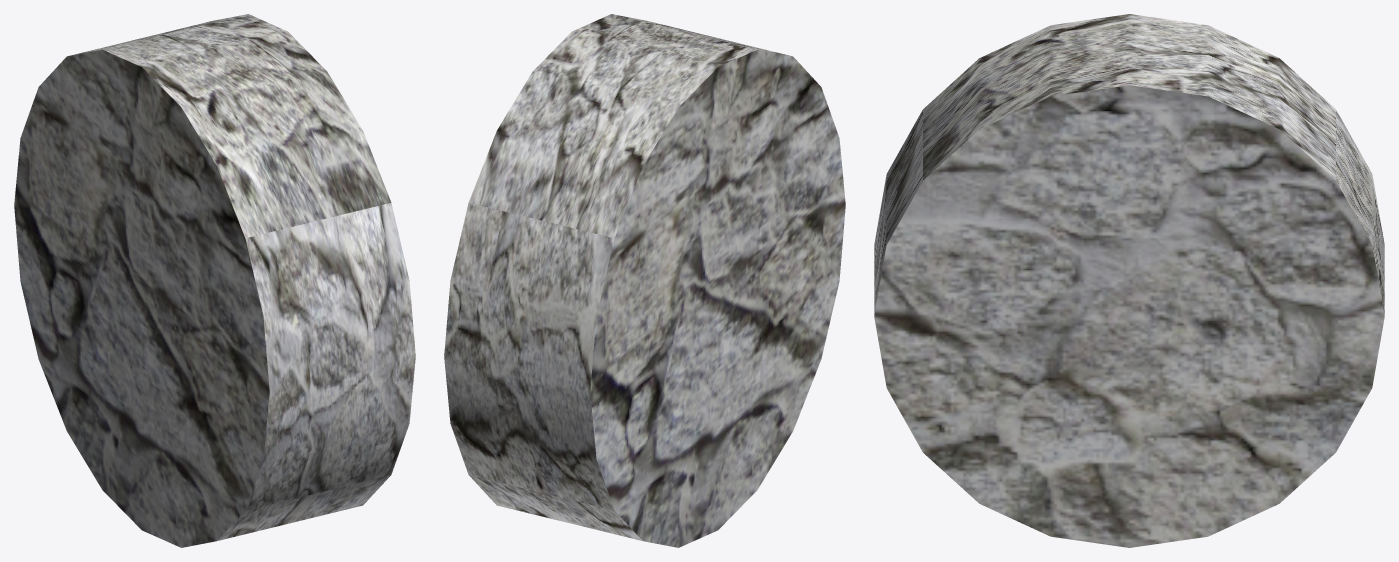
Rendered from RuedaProyectorPicapiedras.obj.
The picture shows the model from 3 angles, left to right: view 1: azimuth 30°, elevation 25°; view 2: azimuth 150°, elevation 25°; view 3: azimuth 270°, elevation 25°; orthographic projection.
Visible parts, largest first — view 1: pasted__pasted__pasted__pCylinder3 pasted__pasted__group5 pasted; view 2: pasted__pasted__pasted__pCylinder3 pasted__pasted__group5 pasted; view 3: pasted__pasted__pasted__pCylinder3 pasted__pasted__group5 pasted.
Part boxes in pixels (left/top/right/bottom): pasted__pasted__pasted__pCylinder3 pasted__pasted__group5 pasted: left=14, top=14, right=415, bottom=547; pasted__pasted__pasted__pCylinder3 pasted__pasted__group5 pasted: left=444, top=14, right=845, bottom=547; pasted__pasted__pasted__pCylinder3 pasted__pasted__group5 pasted: left=874, top=14, right=1384, bottom=547.
Size of the model in its own units: 4.9 by 14.85 by 14.85.
1 material, 1 textured.
